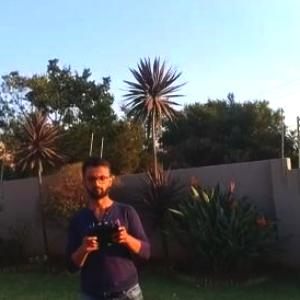follow: (56, 144, 161, 299)
